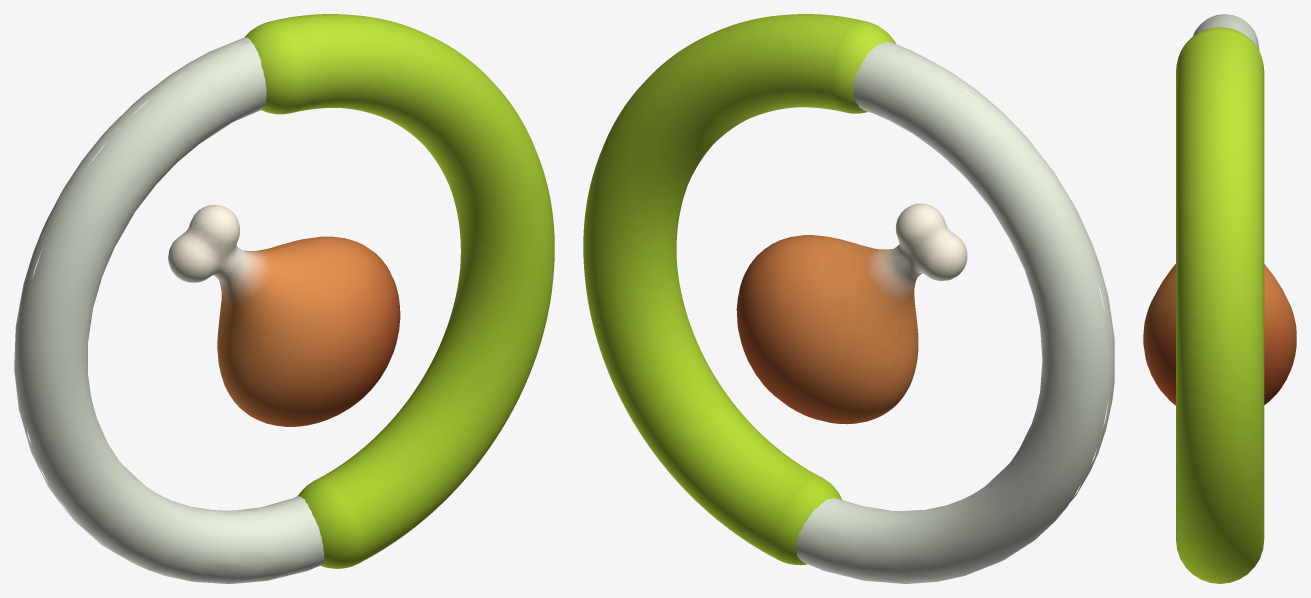
Rendered from protein.glb.
3 views of the same model, side by side, from view 1: azimuth 30°, elevation 25°; view 2: azimuth 150°, elevation 25°; view 3: azimuth 270°, elevation 25° (orthographic). The views are drawn at different scales.
Parts seen in each view (by area): view 1: protein-arc, protein-track, drumstick, protein-start, protein-end; view 2: protein-arc, protein-track, drumstick, protein-start, protein-end; view 3: protein-arc, drumstick, protein-track, protein-start.
Boxes of the visible parts, <box> form: protein-arc: <box>271,14,554,562</box>; protein-track: <box>14,37,324,583</box>; drumstick: <box>168,204,400,426</box>; protein-start: <box>245,20,306,114</box>; protein-end: <box>298,477,365,568</box>; protein-arc: <box>583,14,864,558</box>; protein-track: <box>796,42,1114,583</box>; drumstick: <box>736,203,967,424</box>; protein-start: <box>830,20,898,113</box>; protein-end: <box>771,474,841,565</box>; protein-arc: <box>1176,31,1264,583</box>; drumstick: <box>1143,264,1296,405</box>; protein-track: <box>1193,14,1259,50</box>; protein-start: <box>1176,27,1264,70</box>.
Size of the model in its own units: 1.81 by 1.82 by 0.4876.
